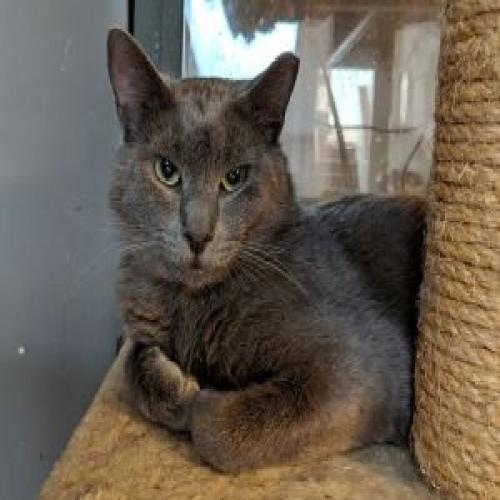rblue: (104, 20, 297, 305)
